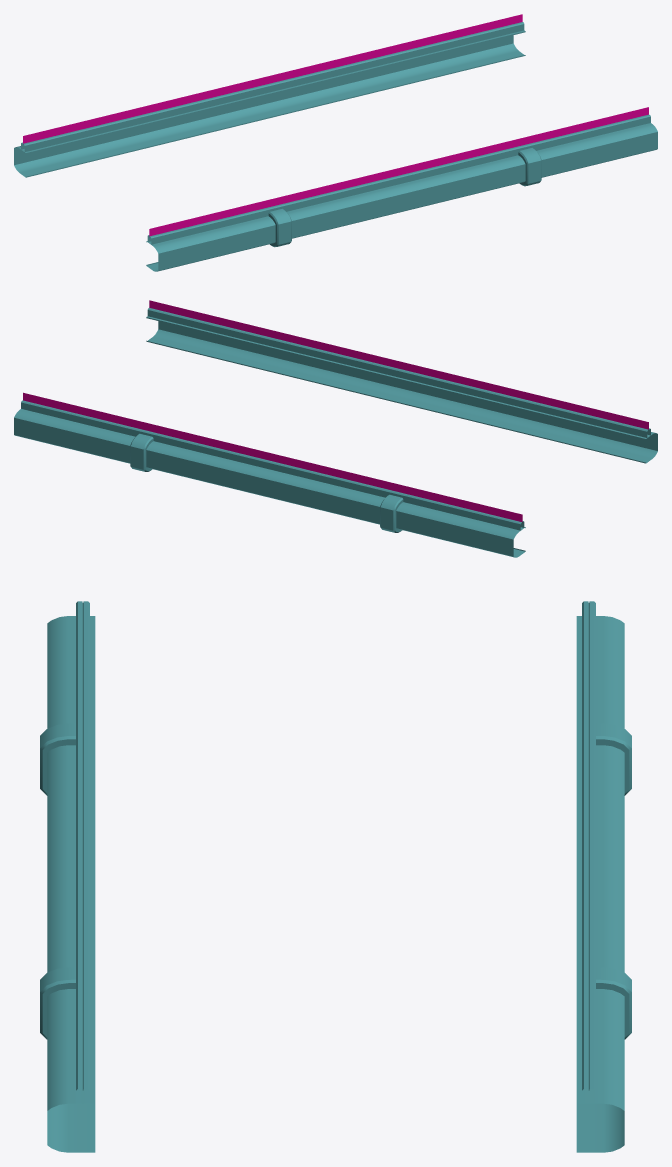
Rendered from Mur_Module_Droit.fbx.
3 renders of one model, top to bottom at view 1: azimuth 30°, elevation 25°; view 2: azimuth 150°, elevation 25°; view 3: azimuth 270°, elevation 25°, orthographic. The views are drawn at different scales.
Parts seen in each view (by area): view 1: polySurface1230; view 2: polySurface1230; view 3: polySurface1230.
Boxes of the visible parts, <box> form: polySurface1230: <box>14,14,657,271</box>; polySurface1230: <box>14,300,657,557</box>; polySurface1230: <box>40,601,631,1152</box>.
Bounding box in the file's own units: 30 × 2.5 × 15.38.
